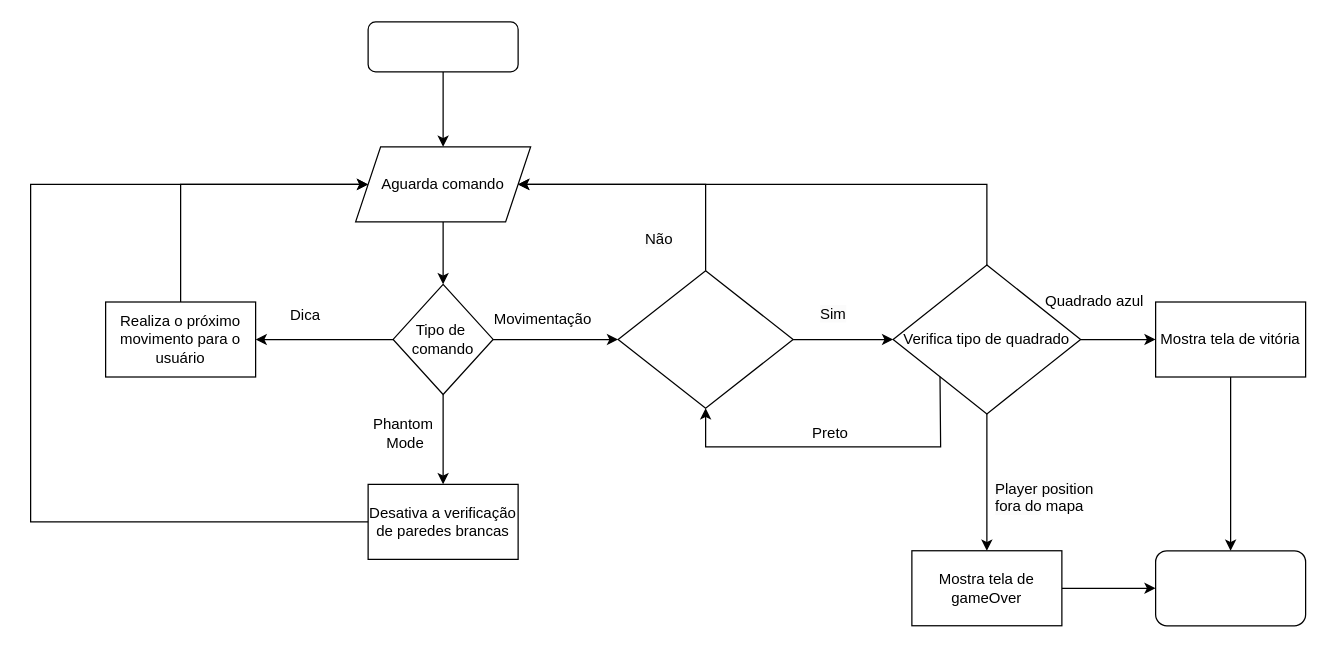
This 1328x649 diagram has some shape labels left out. Each missing label, with the box of its shape:
Fim: (1154, 550, 1306, 626)
Inicia o jogo: (367, 21, 518, 72)
Usuário pode andar nesta direção?: (617, 270, 793, 408)
